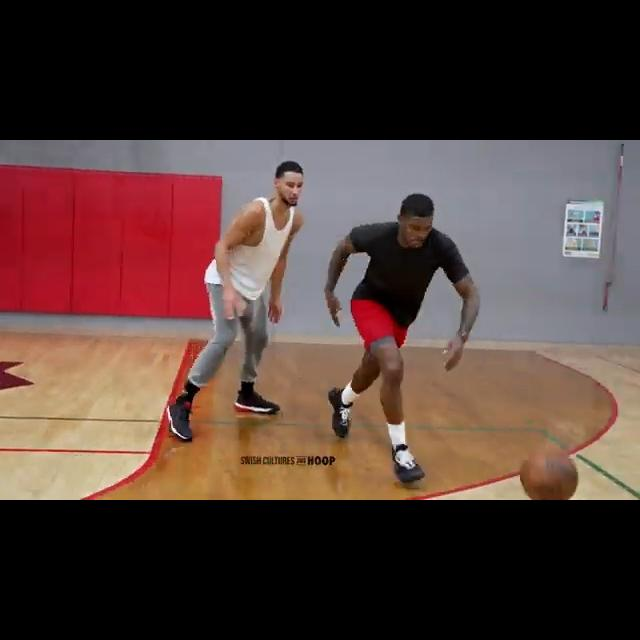basketball: (518, 448, 579, 499)
